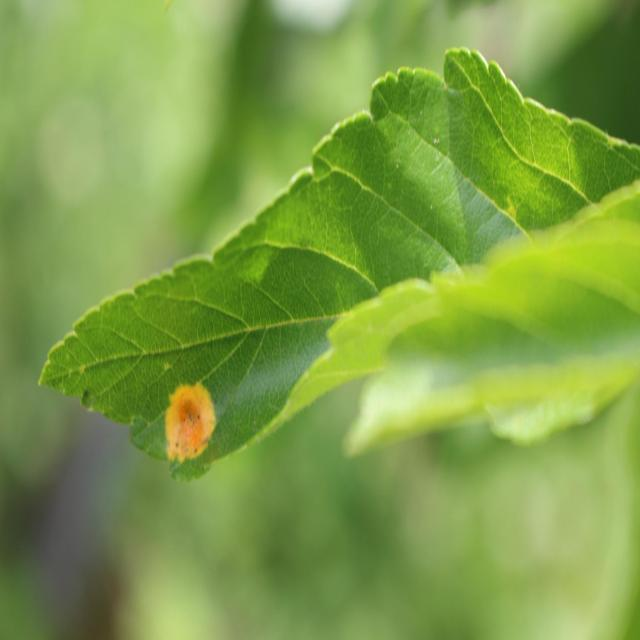Rust: (152, 320, 229, 488)
